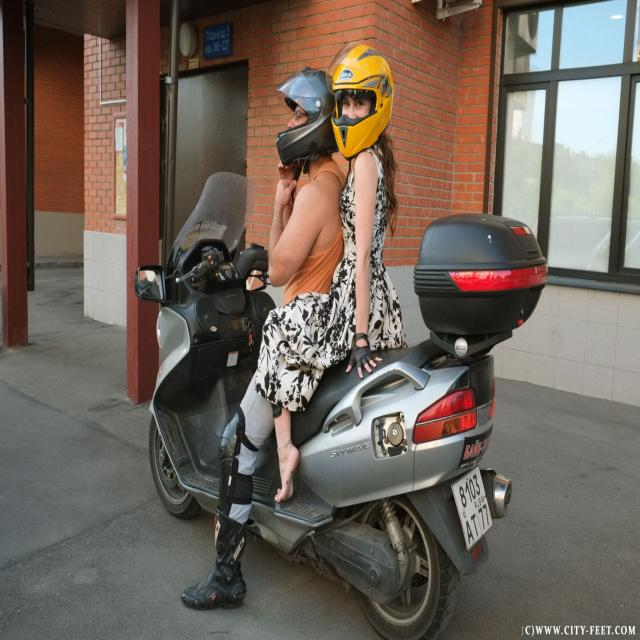Barefoots: (274, 444, 300, 503)
